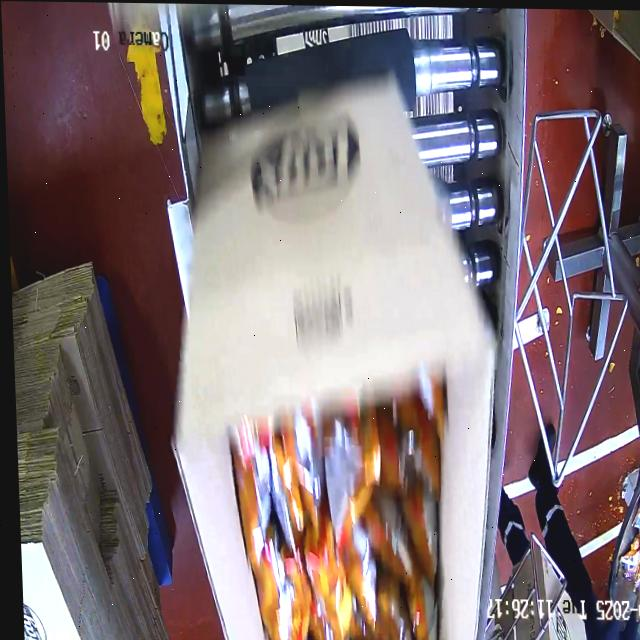FRENCH_CHEESE: (243, 387, 454, 640)
